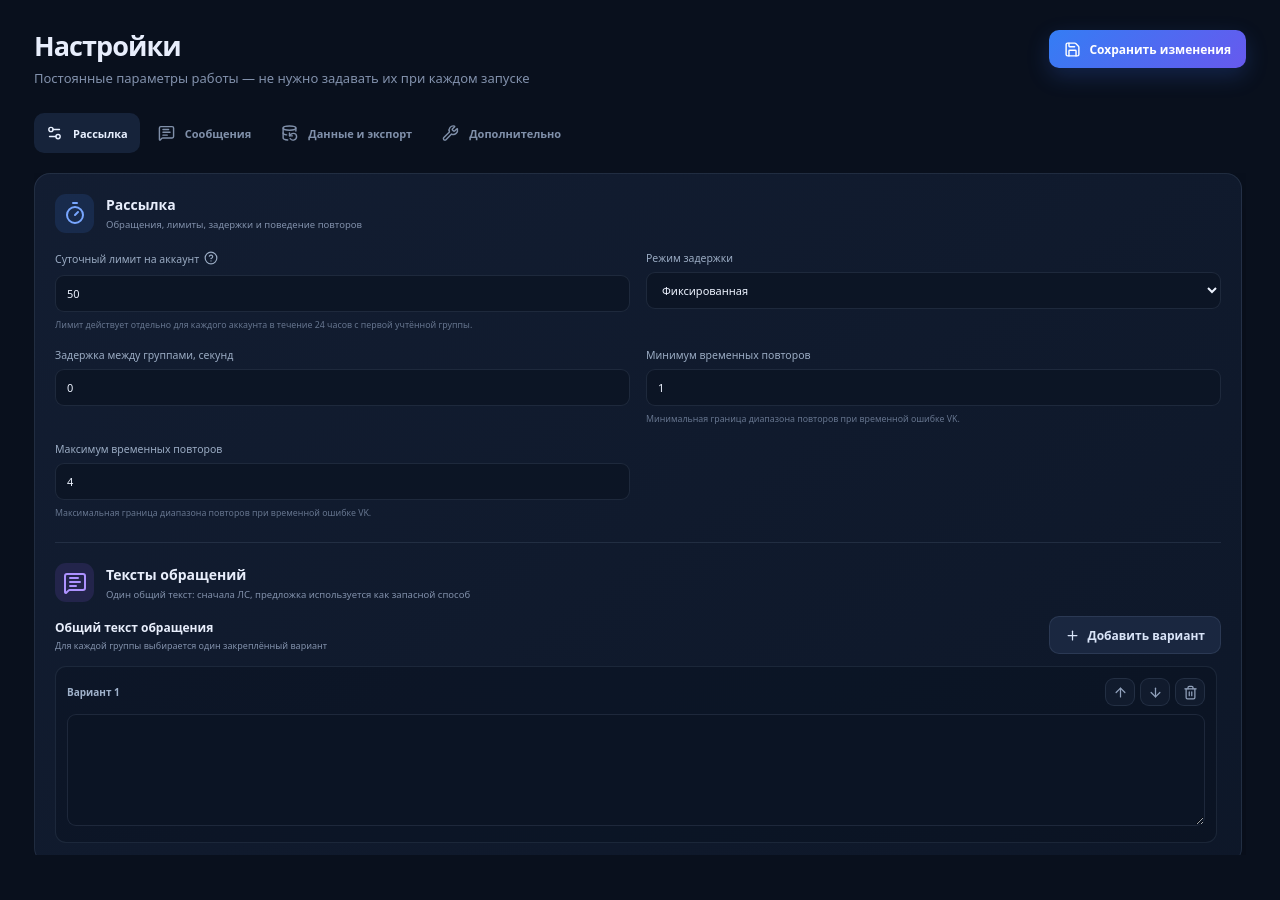
Test: SettingsPage › keeps message synchronization under the Messages tab
Click the tab "Сообщения" at (205, 133), box left=146, top=113, right=263, bottom=153
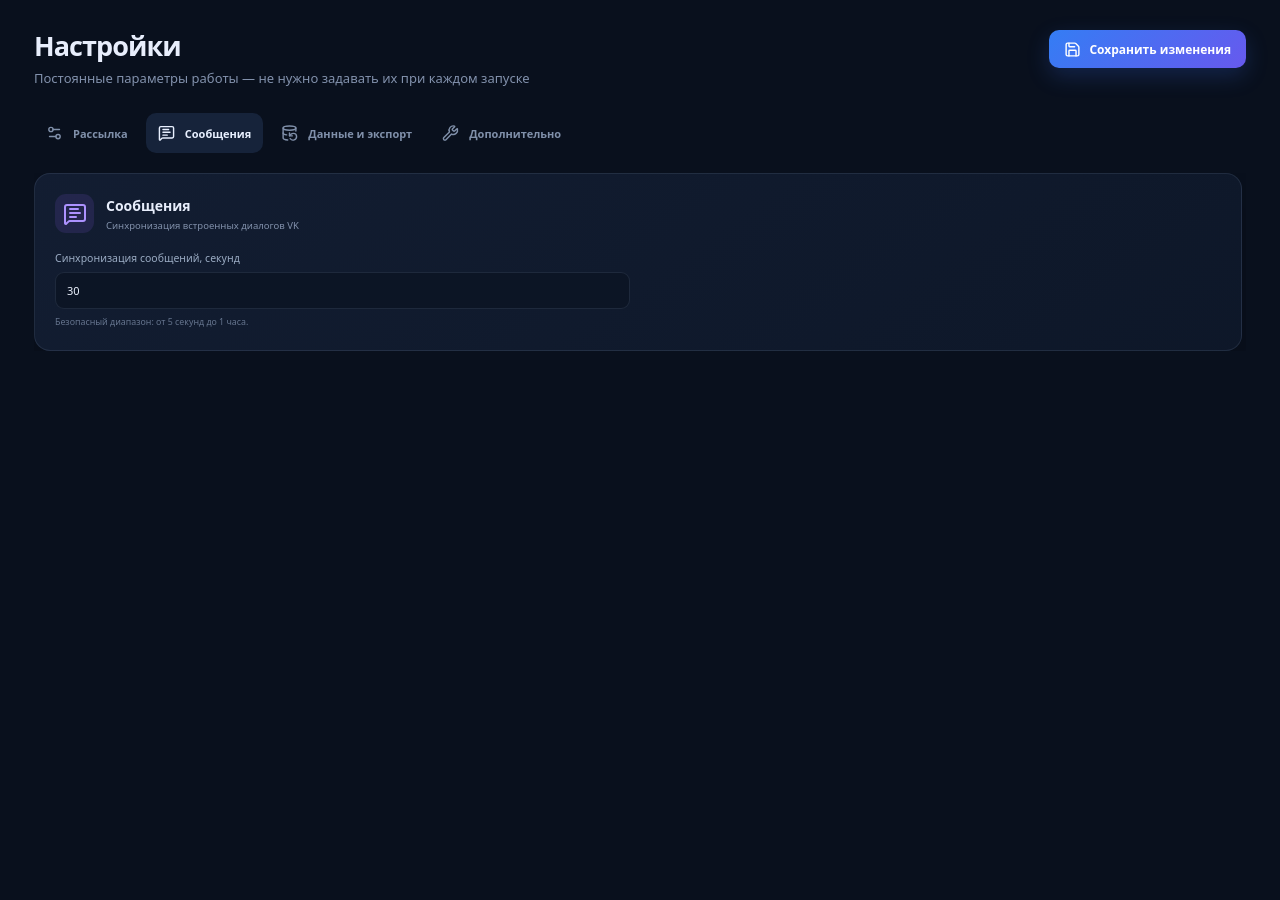
Expected: the text "Синхронизация сообщений, секунд" is shown, left=55, top=251, right=240, bottom=265
